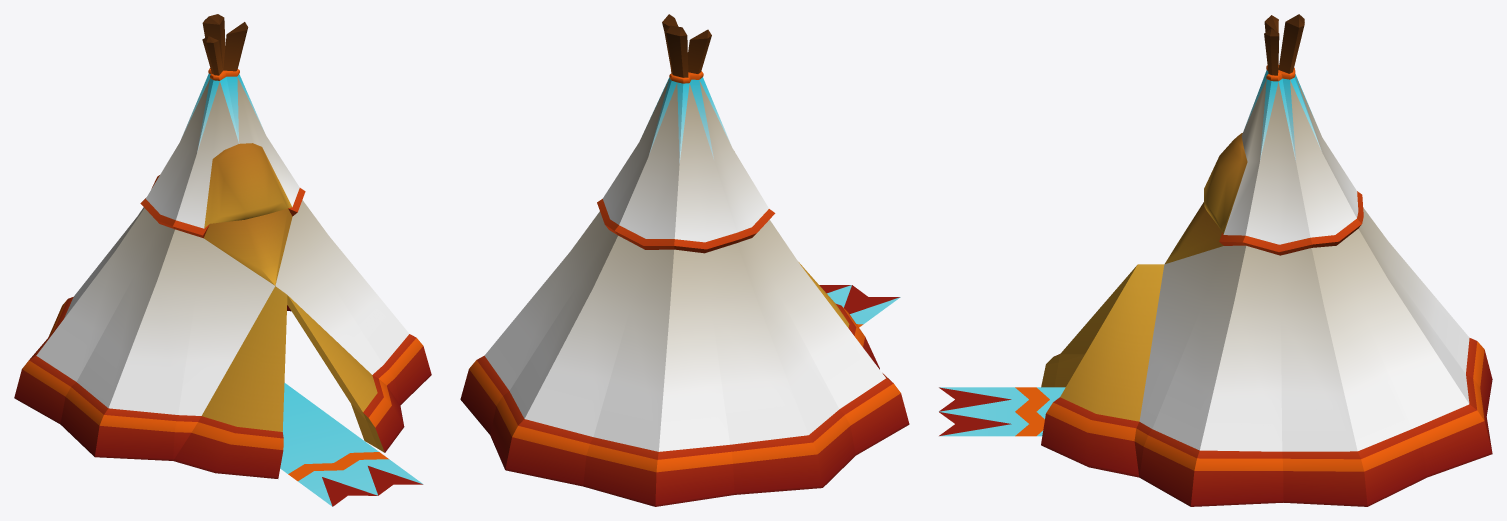
File: House.fbx
The picture shows the model from 3 angles, left to right: view 1: azimuth 30°, elevation 25°; view 2: azimuth 150°, elevation 25°; view 3: azimuth 270°, elevation 25°; orthographic projection. The views are drawn at different scales.
Parts seen in each view (by area): view 1: House01; view 2: House01; view 3: House01.
Boxes of the visible parts, x1,y1,x2,y2 form: House01: (14, 14, 431, 506); House01: (460, 14, 909, 506); House01: (938, 14, 1492, 506).
Size of the model in its own units: 135 by 139 by 175.
